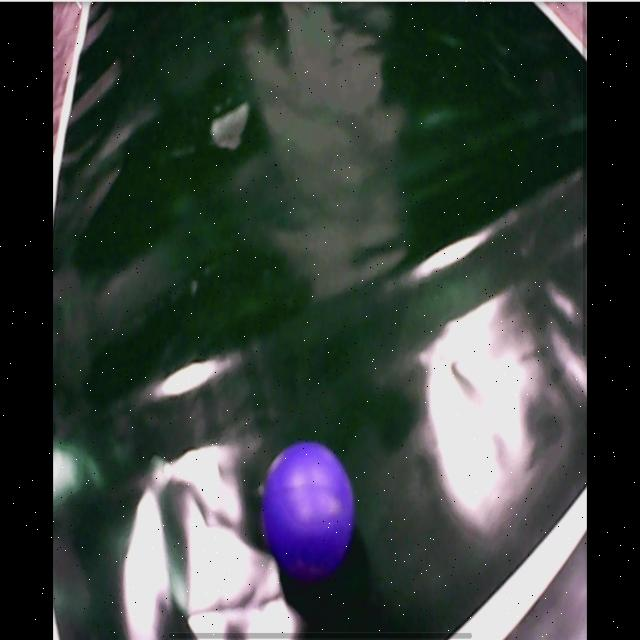ball: (265, 444, 354, 576)
